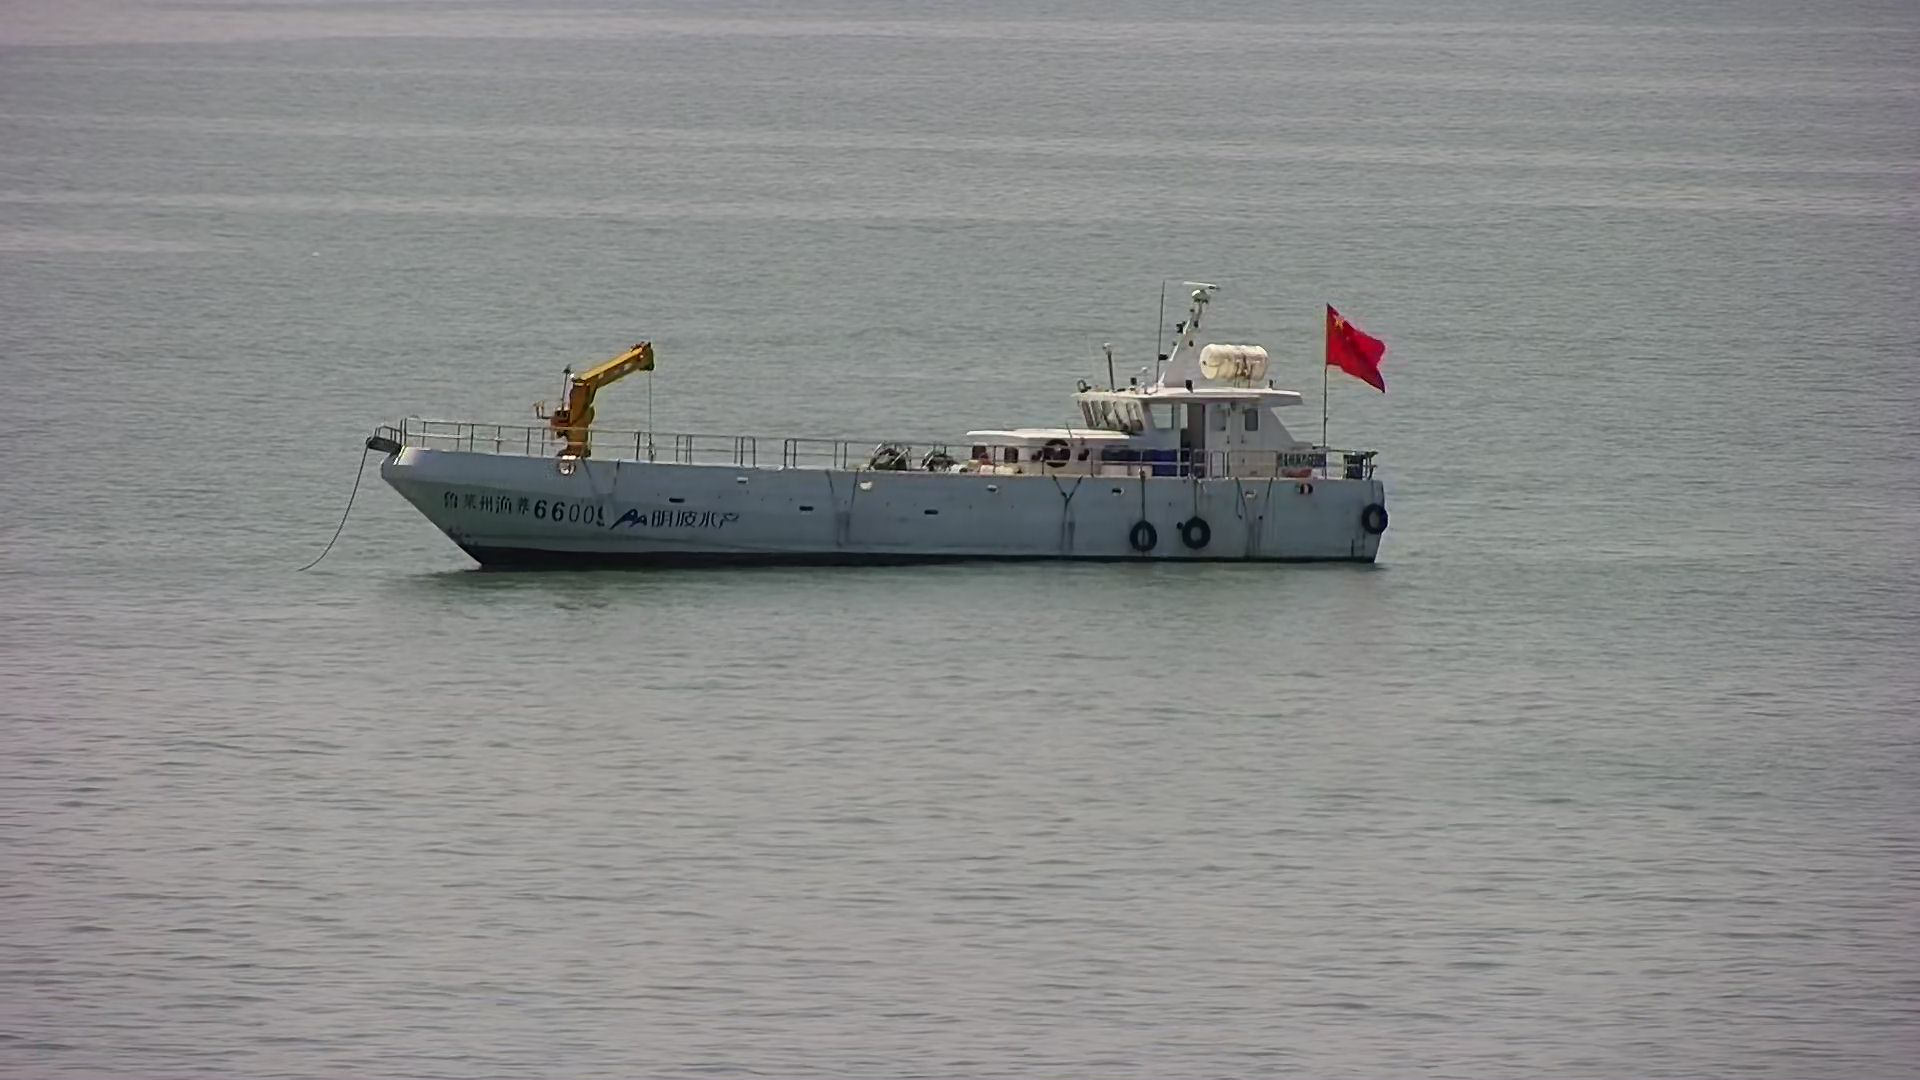ship: (293, 278, 1393, 582)
